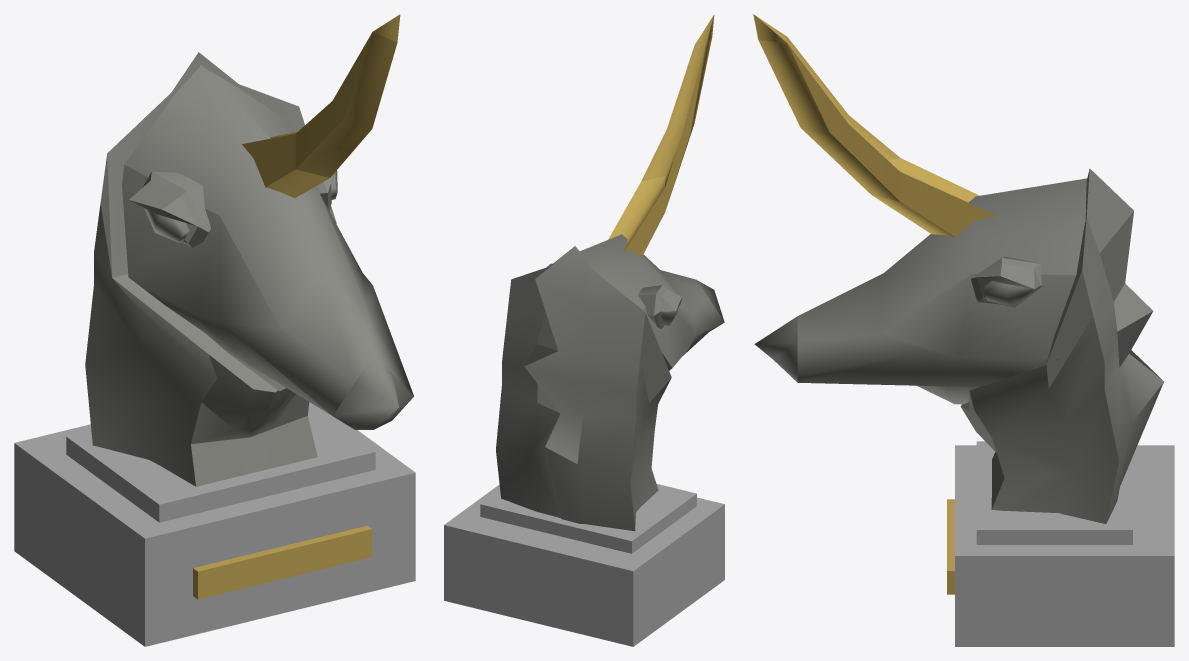
File: ChurchStatueMielikki.fbx
The picture shows the model from 3 angles, left to right: view 1: azimuth 30°, elevation 25°; view 2: azimuth 150°, elevation 25°; view 3: azimuth 270°, elevation 25°; orthographic projection. The views are drawn at different scales.
Visible parts, largest first — view 1: pCube369; view 2: pCube369; view 3: pCube369.
Boxes of the visible parts, x1,y1,x2,y2 form: pCube369: [14, 14, 415, 646]; pCube369: [444, 14, 724, 646]; pCube369: [753, 14, 1174, 646].
Bounding box in the file's own units: 0.3184 × 0.7731 × 0.5113.
